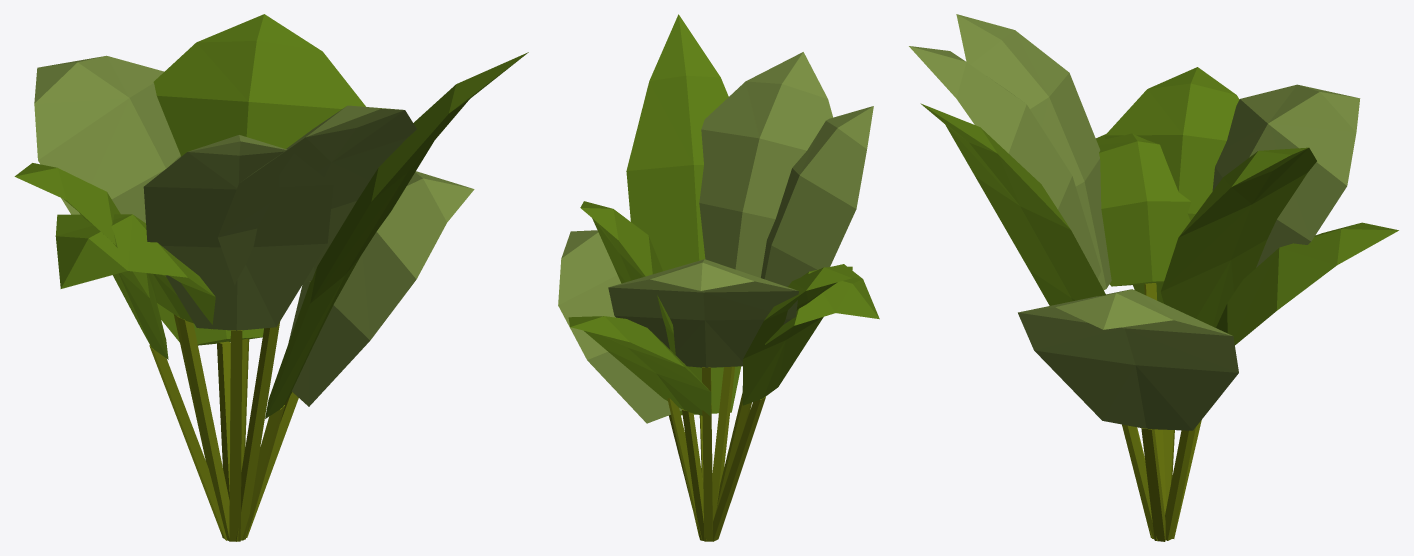
Rendered from SM_Clutter_PlantBroadleaf_01.fbx.
3 renders of one model, left to right at view 1: azimuth 30°, elevation 25°; view 2: azimuth 150°, elevation 25°; view 3: azimuth 270°, elevation 25°, orthographic. The views are drawn at different scales.
Visible parts, largest first — view 1: SM_Clutter_PlantBroadleaf_01; view 2: SM_Clutter_PlantBroadleaf_01; view 3: SM_Clutter_PlantBroadleaf_01.
Part boxes in pixels (<box>): SM_Clutter_PlantBroadleaf_01: <box>14,14,528,541</box>; SM_Clutter_PlantBroadleaf_01: <box>558,14,879,541</box>; SM_Clutter_PlantBroadleaf_01: <box>909,14,1398,541</box>.
Size of the model in its own units: 0.421 by 0.5273 by 0.459.
1 material, 1 textured.
